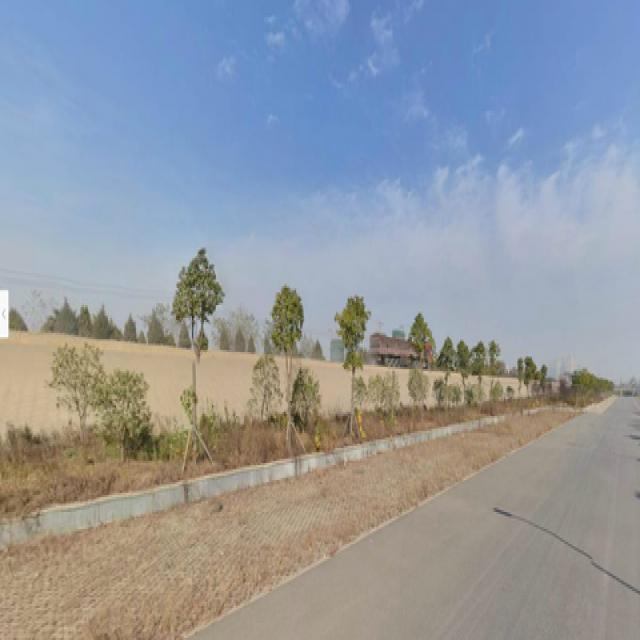cinn: (183, 264, 220, 446), (266, 294, 306, 448), (332, 303, 364, 422)
